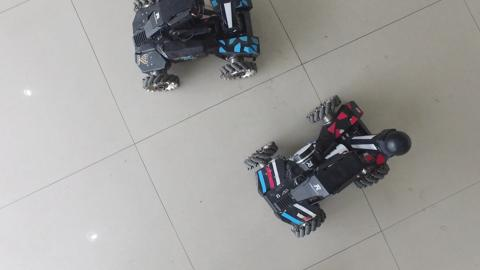chariot: (237, 89, 413, 242), (123, 1, 265, 103)
